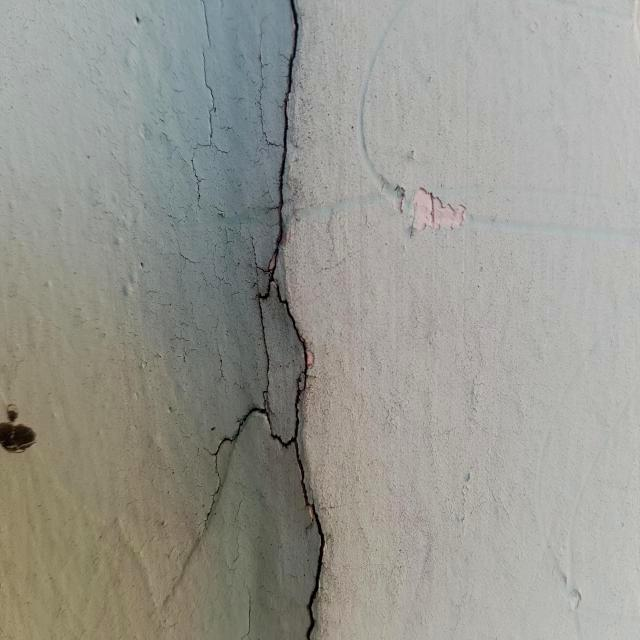SurfaceCrack: (154, 0, 367, 640)
